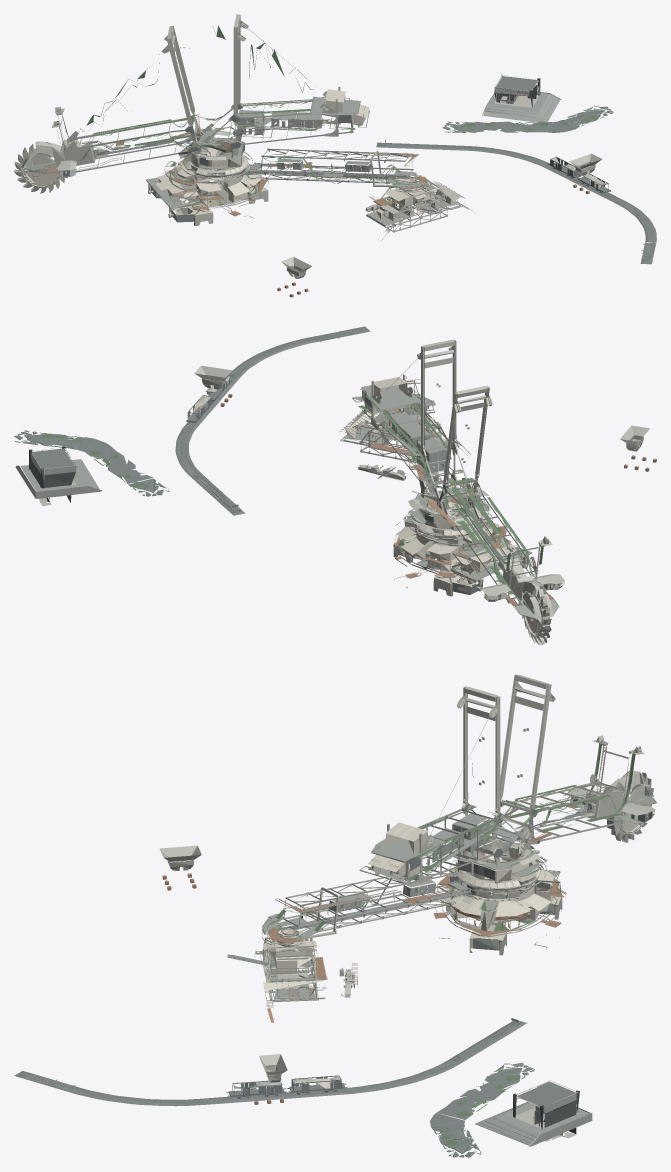
The model's file is excavator_1-map.glb.
The picture shows the model from 3 angles, top to bottom: view 1: azimuth 30°, elevation 25°; view 2: azimuth 150°, elevation 25°; view 3: azimuth 270°, elevation 25°; orthographic projection. The views are drawn at different scales.
Visible parts, largest first — view 1: fuel_tank_b_600_LOD0, conveyor_bridge_LOD0, bucket_excavator_LOD0, conveyor_unit_LOD0; view 2: fuel_tank_b_600_LOD0, conveyor_bridge_LOD0, bucket_excavator_LOD0, conveyor_unit_LOD0, corridor_train_tunnel_entrance_a_LOD0; view 3: fuel_tank_b_600_LOD0, conveyor_bridge_LOD0, bucket_excavator_LOD0, conveyor_unit_LOD0, corridor_train_tunnel_entrance_a_LOD0.
Part boxes in pixels (box(x1,y1,x2,y2)): fuel_tank_b_600_LOD0: box(14, 14, 607, 278); conveyor_bridge_LOD0: box(23, 26, 613, 297); bucket_excavator_LOD0: box(63, 76, 656, 264); conveyor_unit_LOD0: box(23, 89, 465, 219); fuel_tank_b_600_LOD0: box(30, 339, 649, 645); conveyor_bridge_LOD0: box(14, 376, 656, 620); bucket_excavator_LOD0: box(14, 326, 547, 599); conveyor_unit_LOD0: box(345, 377, 541, 633); corridor_train_tunnel_entrance_a_LOD0: box(29, 446, 75, 502); fuel_tank_b_600_LOD0: box(160, 674, 656, 1141); conveyor_bridge_LOD0: box(162, 742, 656, 1157); bucket_excavator_LOD0: box(14, 796, 651, 1157); conveyor_unit_LOD0: box(263, 800, 641, 997); corridor_train_tunnel_entrance_a_LOD0: box(513, 1090, 579, 1135).
Bounding box in the file's own units: 215 × 73 × 171.
